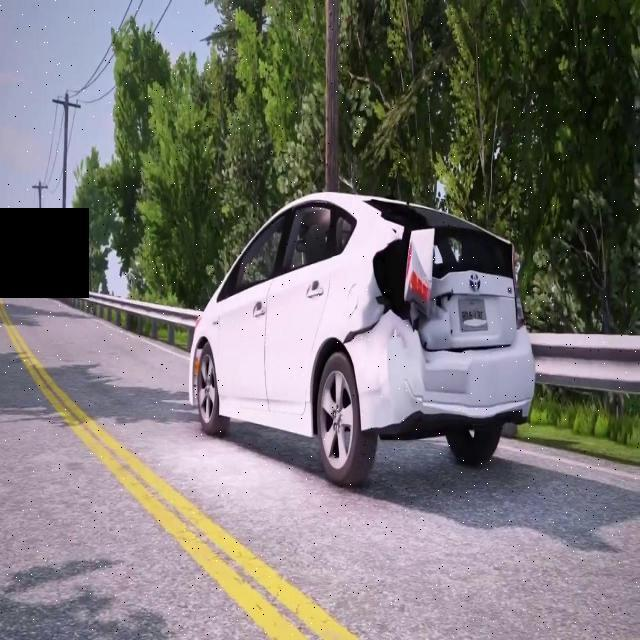vehicle: (178, 162, 560, 506)
